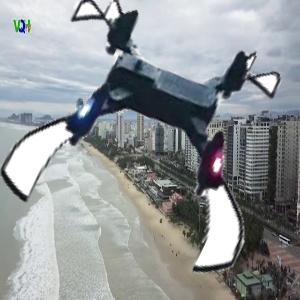drone: (25, 10, 283, 268)
